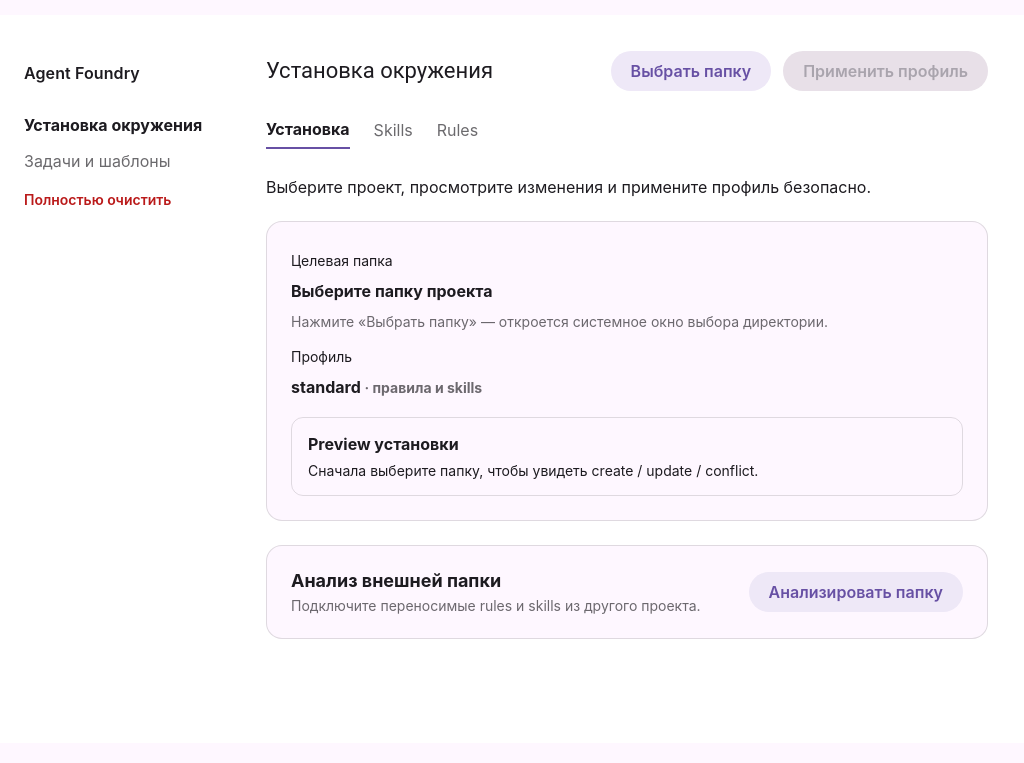
Test: Environment UI › показывает analyse, preview и apply импортирования
Click the button "Анализировать папку": (856,592) [748,572,963,612]
(page scrolled)
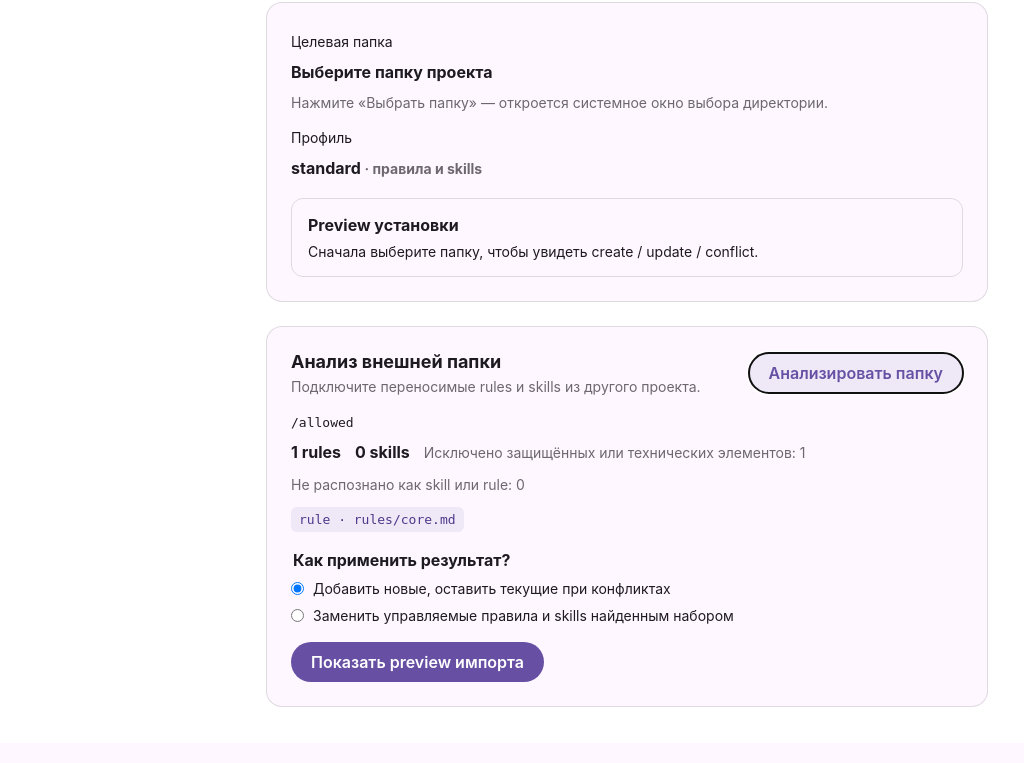
Now the text "1 rules" is shown, box [291,442,341,462]
Click the button "Показать preview импорта": (418,662) [291,642,544,682]
(page scrolled)
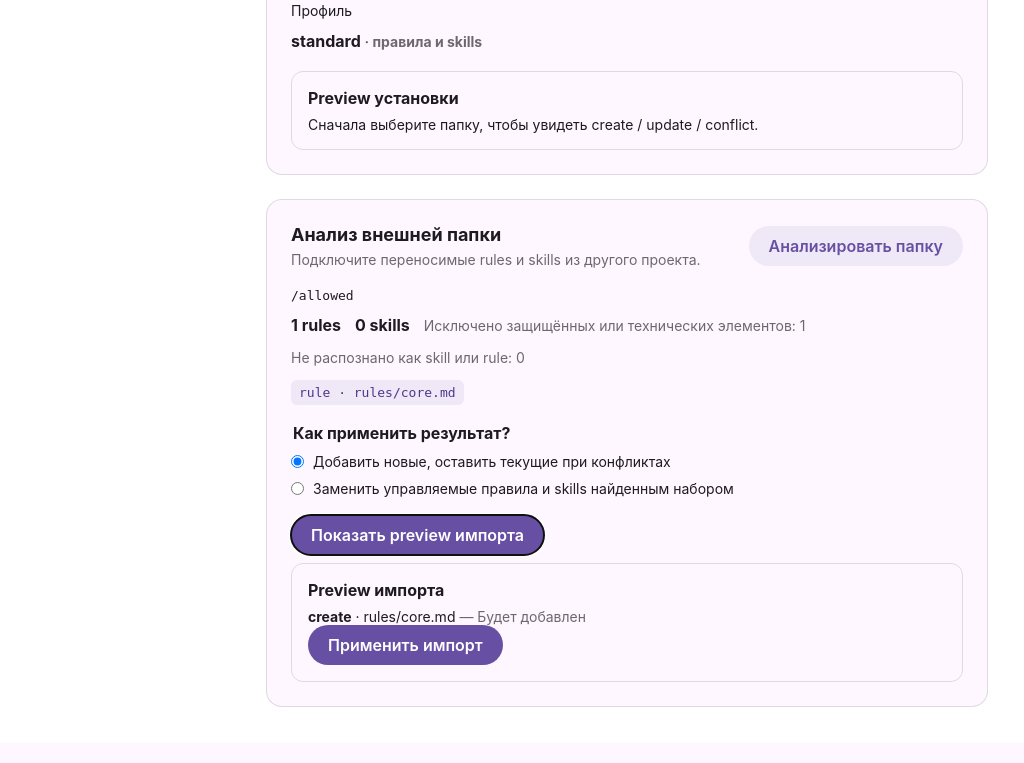
Now the text "Preview импорта" is shown, box [308,580,444,600]
Click the button "Применить импорт": (405,645) [308,625,503,665]
(page scrolled)
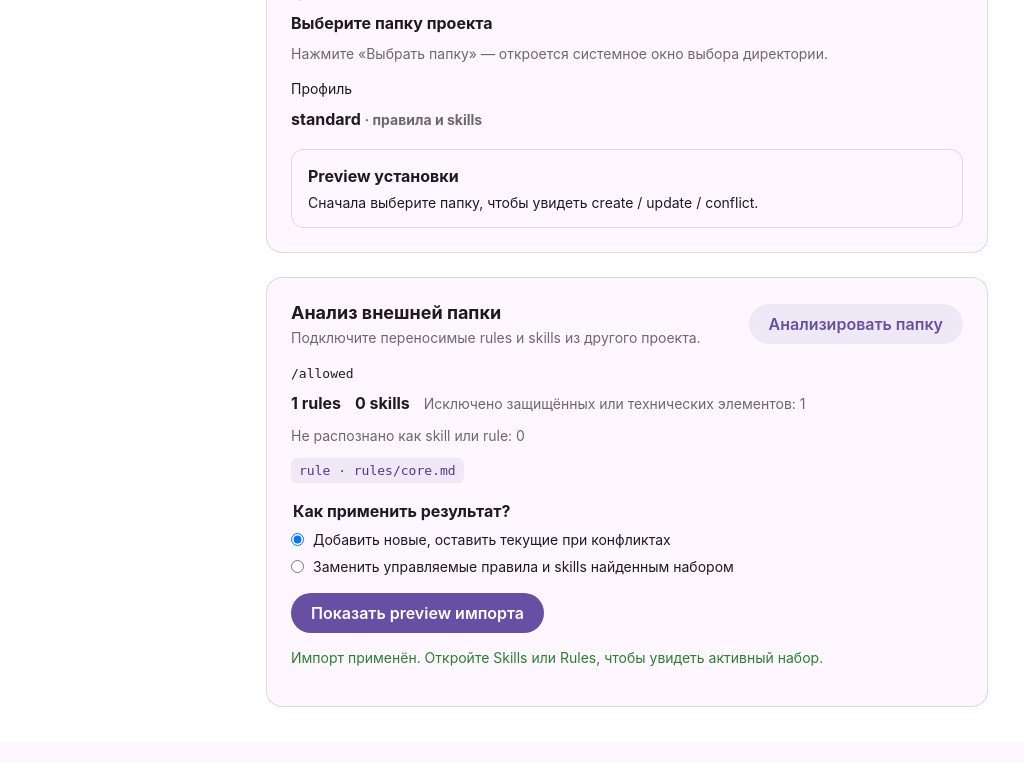
Now the text "Импорт применён" is shown, box [291,649,823,666]
